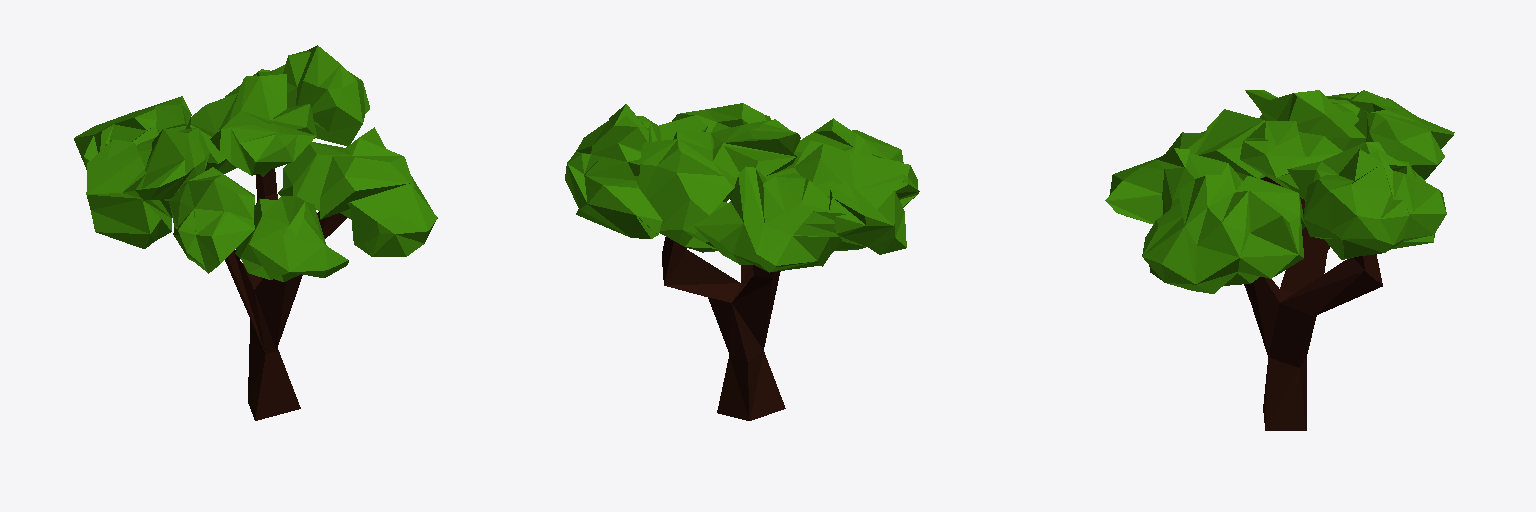
Rendered from pohon2.obj.
The picture shows the model from 3 angles: view 1: azimuth 30°, elevation 25°; view 2: azimuth 150°, elevation 25°; view 3: azimuth 270°, elevation 25°; orthographic projection.
Parts seen in each view (by area): view 1: pohon; view 2: pohon; view 3: pohon.
Boxes of the visible parts, x1,y1,x2,y2 form: pohon: [74, 45, 437, 420]; pohon: [565, 103, 919, 420]; pohon: [1105, 90, 1454, 430].
Bounding box in the file's own units: 50.5 × 50.49 × 50.97.